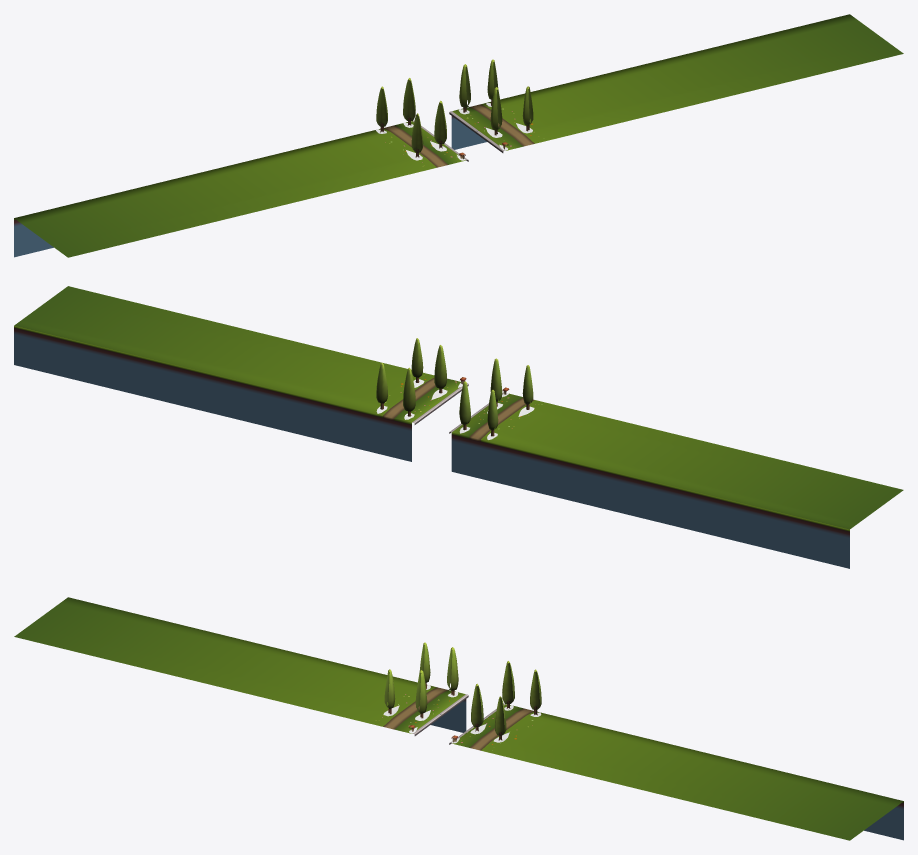
The model's file is Tom1_ParkSet01_10 1.fbx.
The picture shows the model from 3 angles, top to bottom: view 1: azimuth 30°, elevation 25°; view 2: azimuth 150°, elevation 25°; view 3: azimuth 330°, elevation 25°; orthographic projection.
Parts seen in each view (by area): view 1: Tom1_ParkSet01_10, shadows; view 2: Tom1_ParkSet01_10; view 3: Tom1_ParkSet01_10, shadows.
Boxes of the visible parts, x1,y1,x2,y2 form: Tom1_ParkSet01_10: [14, 14, 903, 257]; shadows: [376, 103, 532, 160]; Tom1_ParkSet01_10: [14, 286, 903, 568]; Tom1_ParkSet01_10: [14, 597, 903, 840]; shadows: [383, 685, 541, 743].
Bounding box in the file's own units: 8921 × 904 × 1001.
